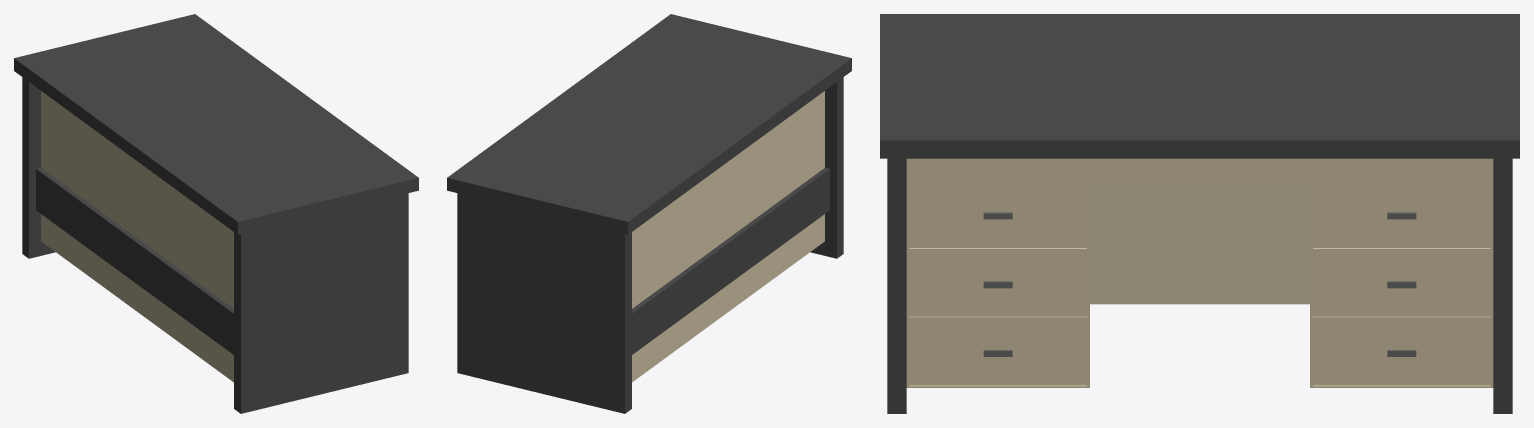
The model's file is Desk1-1.fbx.
The picture shows the model from 3 angles, left to right: view 1: azimuth 30°, elevation 25°; view 2: azimuth 150°, elevation 25°; view 3: azimuth 270°, elevation 25°; orthographic projection. The views are drawn at different scales.
Parts seen in each view (by area): view 1: Desk.000_LOD0; view 2: Desk.000_LOD0; view 3: Desk.000_LOD0.
Part boxes in pixels (box(x1,y1,x2,y2)): Desk.000_LOD0: box(14, 14, 418, 413); Desk.000_LOD0: box(447, 14, 851, 413); Desk.000_LOD0: box(880, 14, 1519, 413).
Size of what is drawn, in the model's own units: 166 by 171 by 356.
1 material, 1 textured.
